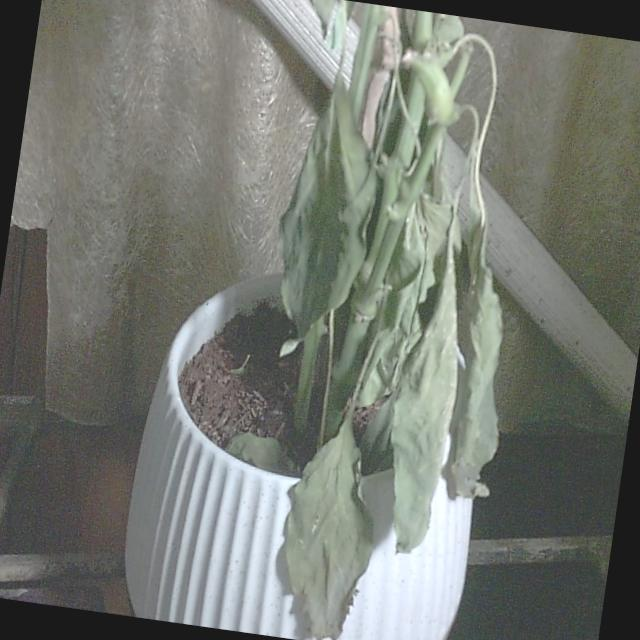Leaf: (370, 260, 470, 556), (266, 429, 389, 640)
